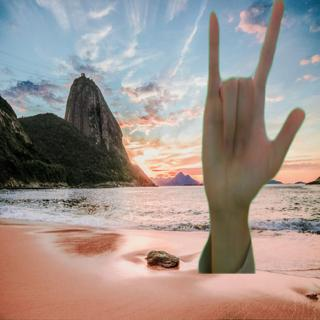ILY: (194, 1, 309, 222)
